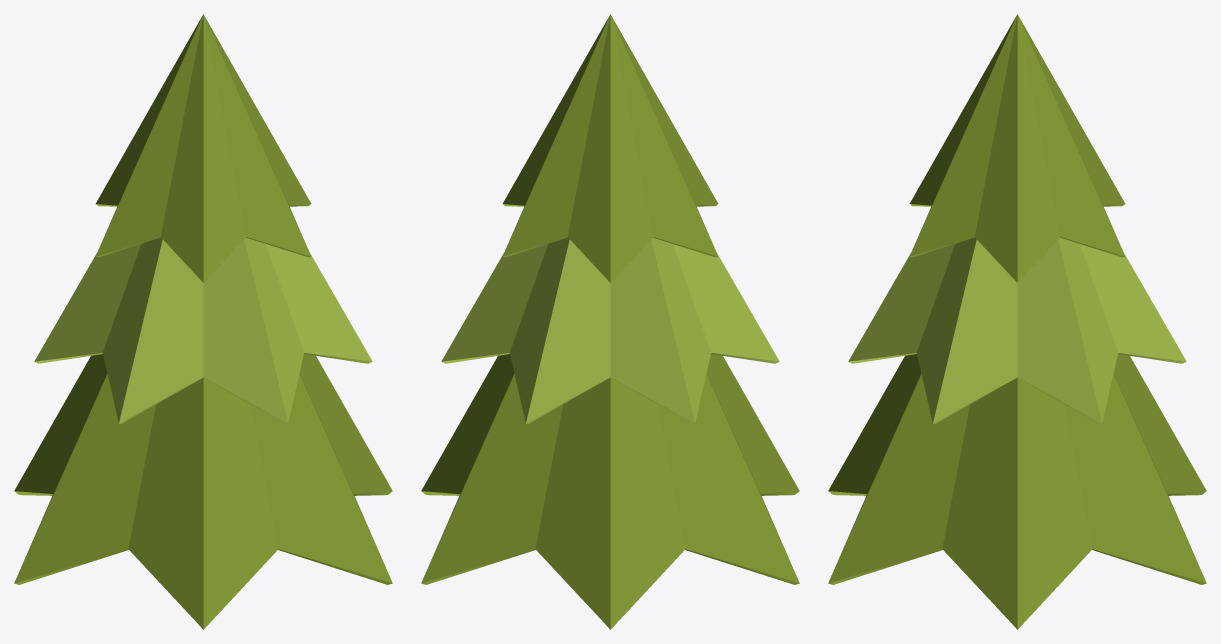
File: pin.fbx
3 renders of one model, left to right at view 1: azimuth 30°, elevation 25°; view 2: azimuth 150°, elevation 25°; view 3: azimuth 270°, elevation 25°, orthographic.
Visible parts, largest first — view 1: pin; view 2: pin; view 3: pin.
Boxes of the visible parts, box(x1,y1,x2,y2) form: pin: box(14, 14, 392, 629); pin: box(421, 14, 799, 629); pin: box(828, 14, 1206, 629).
Bounding box in the file's own units: 458 × 628 × 397.
